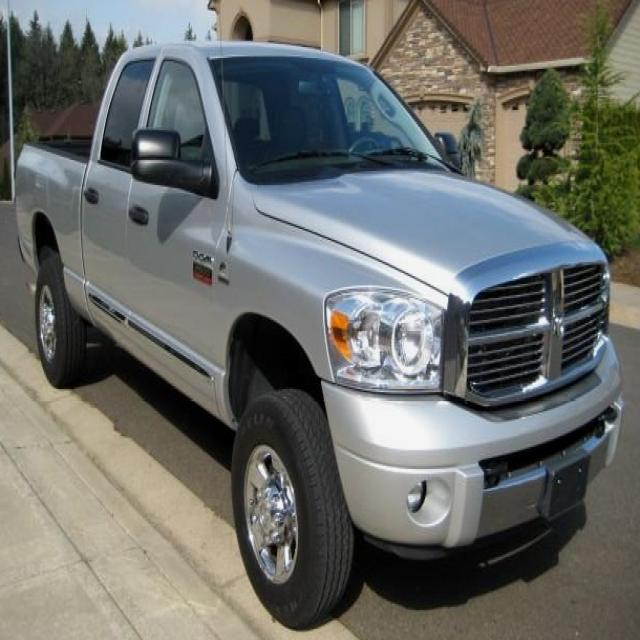CMT: (10, 30, 624, 602)
